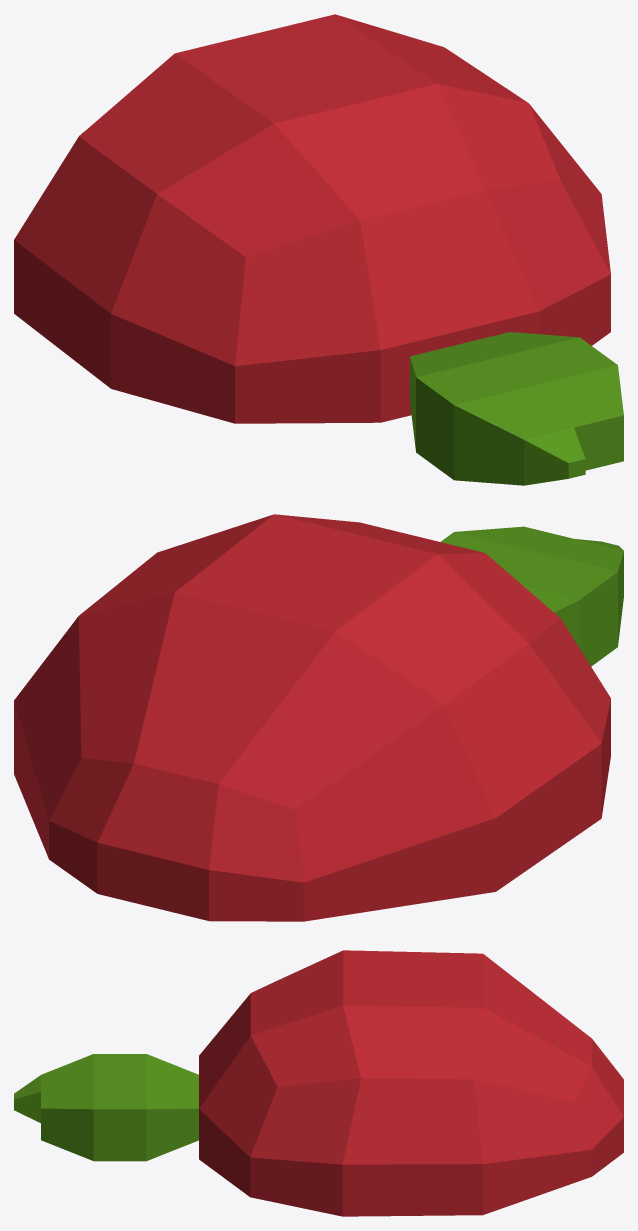
Rendered from fresa 1.fbx.
3 views of the same model, one above another, from view 1: azimuth 30°, elevation 25°; view 2: azimuth 150°, elevation 25°; view 3: azimuth 270°, elevation 25° (orthographic). The views are drawn at different scales.
Parts seen in each view (by area): view 1: fresa; view 2: fresa; view 3: fresa.
Part boxes in pixels (x1,y1,x2,y2): fresa: (14, 14, 623, 485); fresa: (14, 514, 623, 921); fresa: (14, 950, 623, 1216).
Size of the model in its own units: 3.62 by 1.59 by 5.63.
